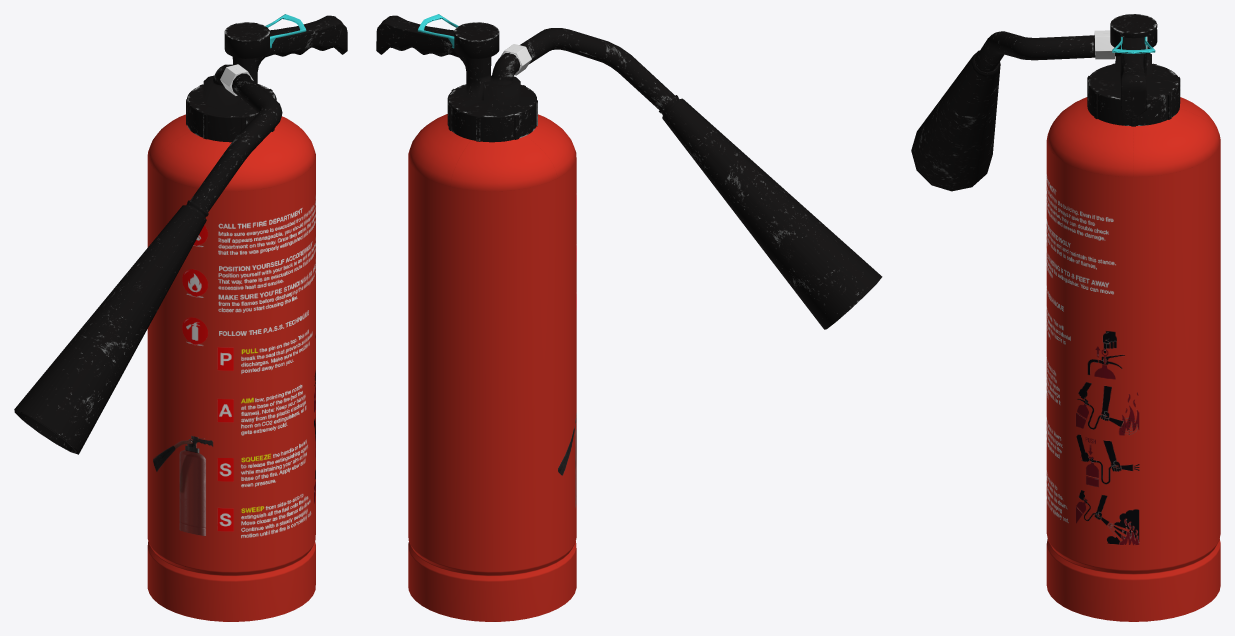
The model's file is estinguisher.fbx.
3 views of the same model, side by side, from view 1: azimuth 30°, elevation 25°; view 2: azimuth 150°, elevation 25°; view 3: azimuth 270°, elevation 25° (orthographic). The views are drawn at different scales.
Parts seen in each view (by area): view 1: Extinguisher; view 2: Extinguisher; view 3: Extinguisher.
Part boxes in pixels (box(x1,y1,x2,y2)): Extinguisher: box(14, 14, 347, 621); Extinguisher: box(376, 14, 882, 621); Extinguisher: box(911, 14, 1220, 621).
Bounding box in the file's own units: 57.25 × 36.48 × 74.05.
Materials: 1 (1 with a texture image).
